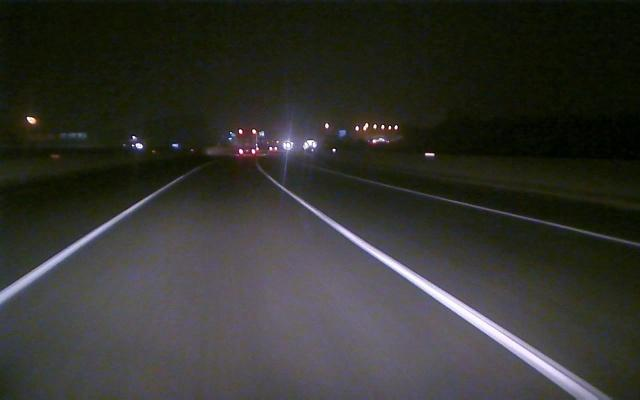lane: (277, 182, 609, 399), (2, 180, 175, 303), (371, 180, 640, 248)
